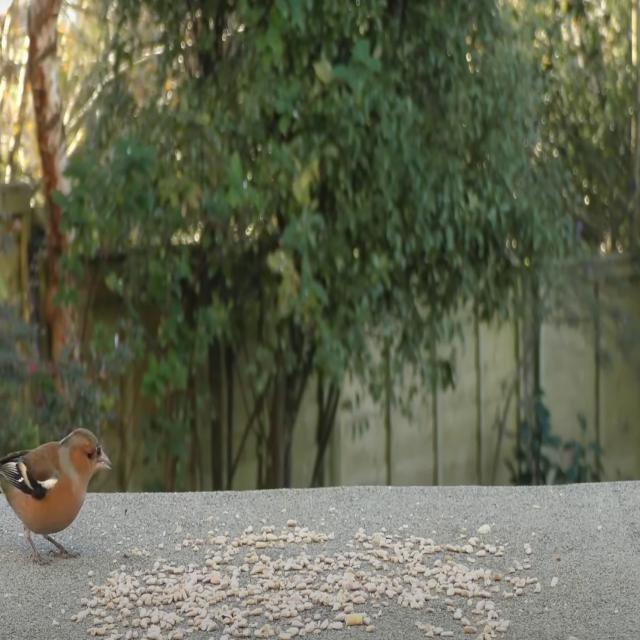beak: (94, 444, 114, 475)
bird: (0, 425, 113, 575)
